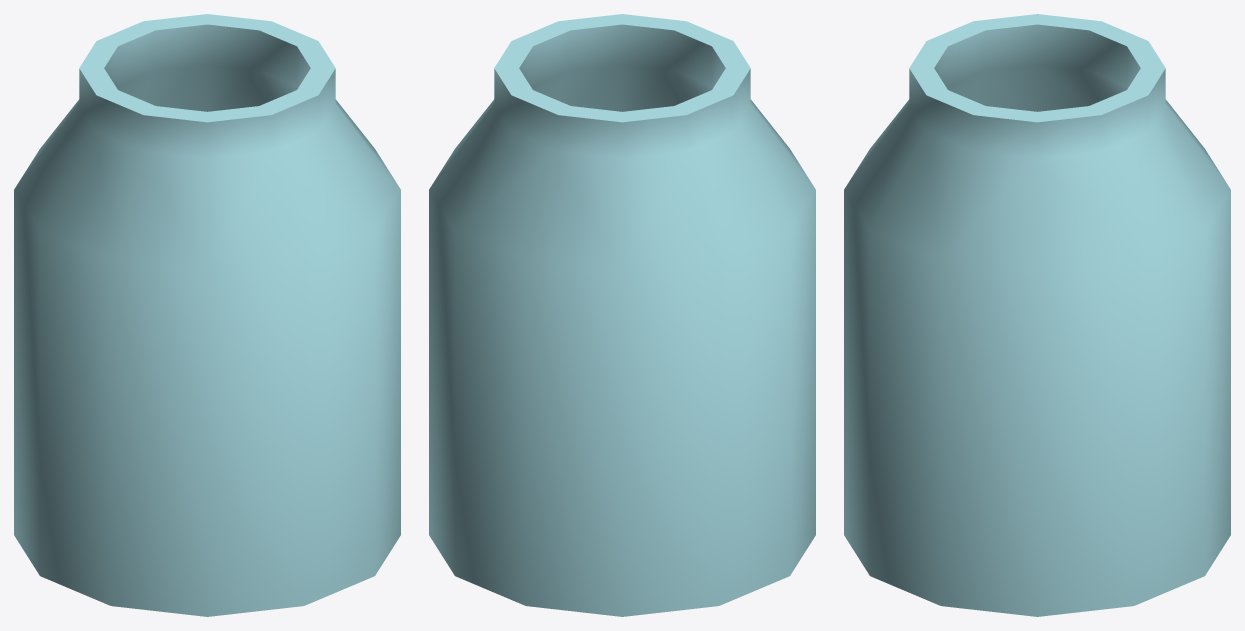
File: JarFilled5.fbx
3 views of the same model, side by side, from view 1: azimuth 30°, elevation 25°; view 2: azimuth 150°, elevation 25°; view 3: azimuth 270°, elevation 25° (orthographic).
Visible parts, largest first — view 1: JarFilled5; view 2: JarFilled5; view 3: JarFilled5.
Part boxes in pixels (<box>): JarFilled5: <box>14,14,400,616</box>; JarFilled5: <box>429,14,815,616</box>; JarFilled5: <box>844,14,1230,616</box>.
Bounding box in the file's own units: 8.28 × 11.03 × 8.28.
